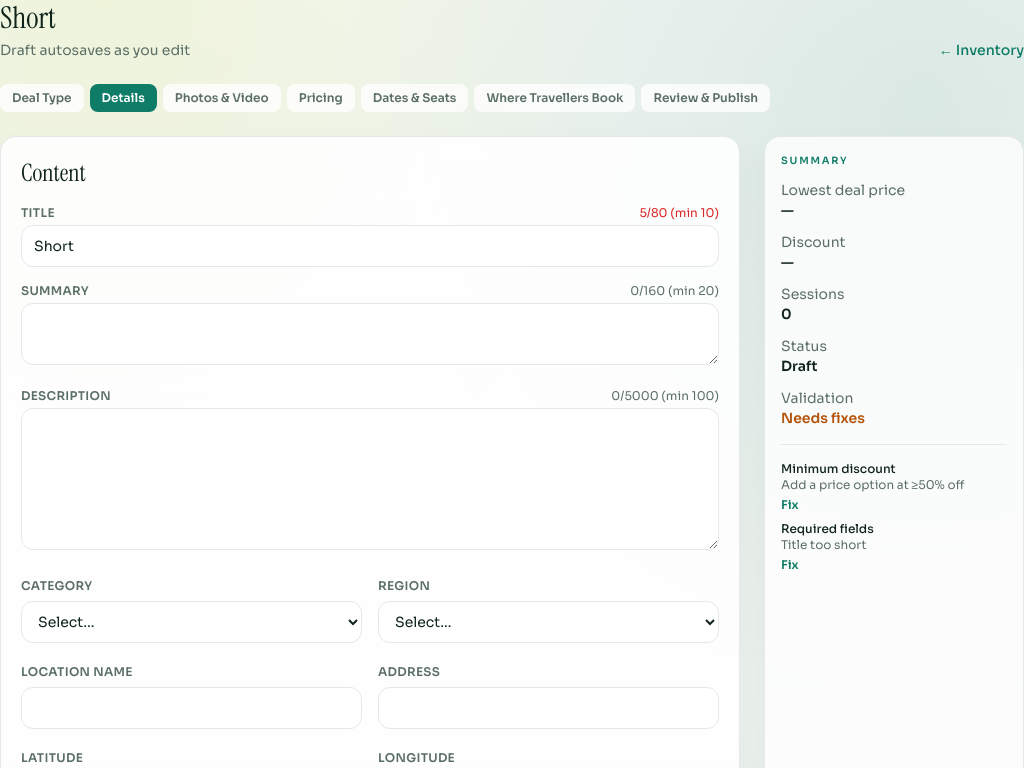
Test: DealEditor (chunk 22) › shows checklist Fix control that jumps to Pricing
Expected: the text "Minimum discount" is shown, top-left (781, 461), bottom-right (896, 476)
Click the button "Fix" below "Minimum discount" at (790, 505), box top-left (781, 497), bottom-right (799, 513)
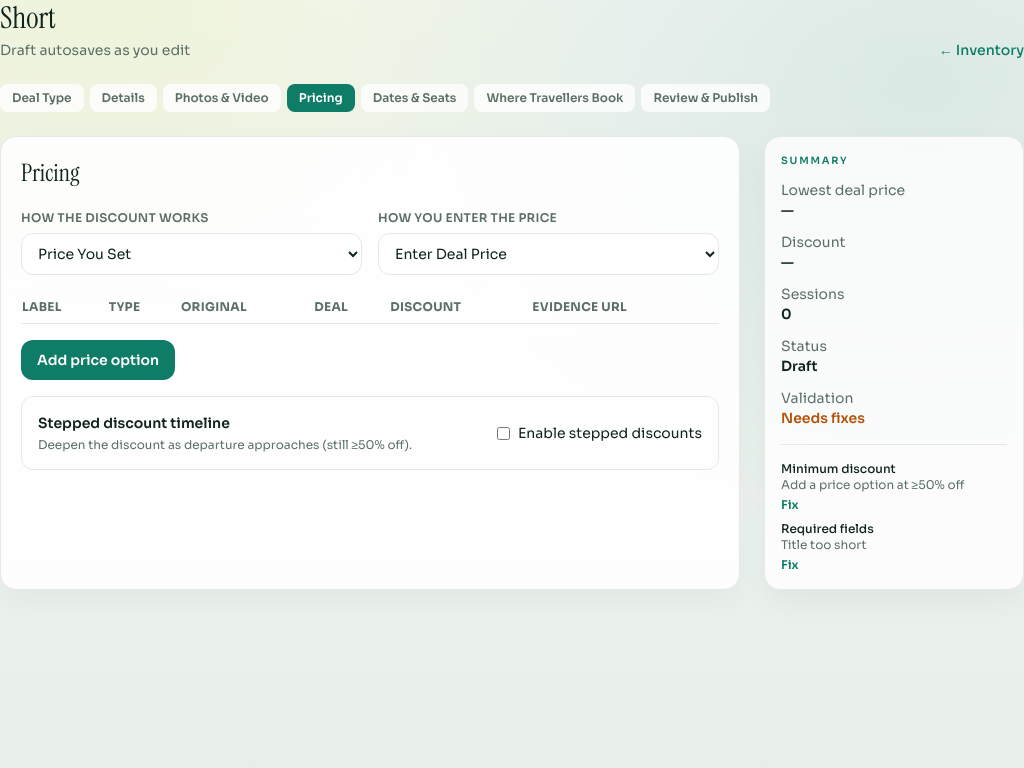
Result: the heading "Pricing" is shown at top-left (21, 157), bottom-right (80, 188)
